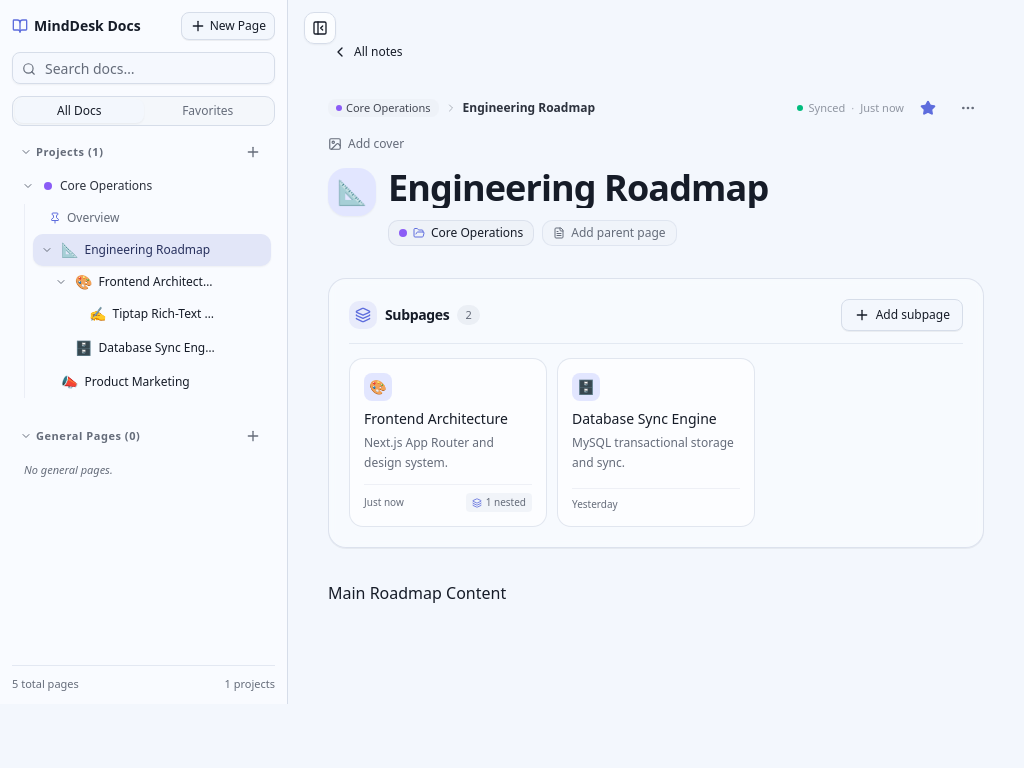
Test case: Notes Upgrade: Top-Level Hierarchy & Subpages Experience › navigates to subpage when clicking its card inside the parent note
# Click on Frontend Architecture subpage card in the subpages section
Click the heading "Frontend Architecture" at (448, 419), box [364, 409, 532, 429]
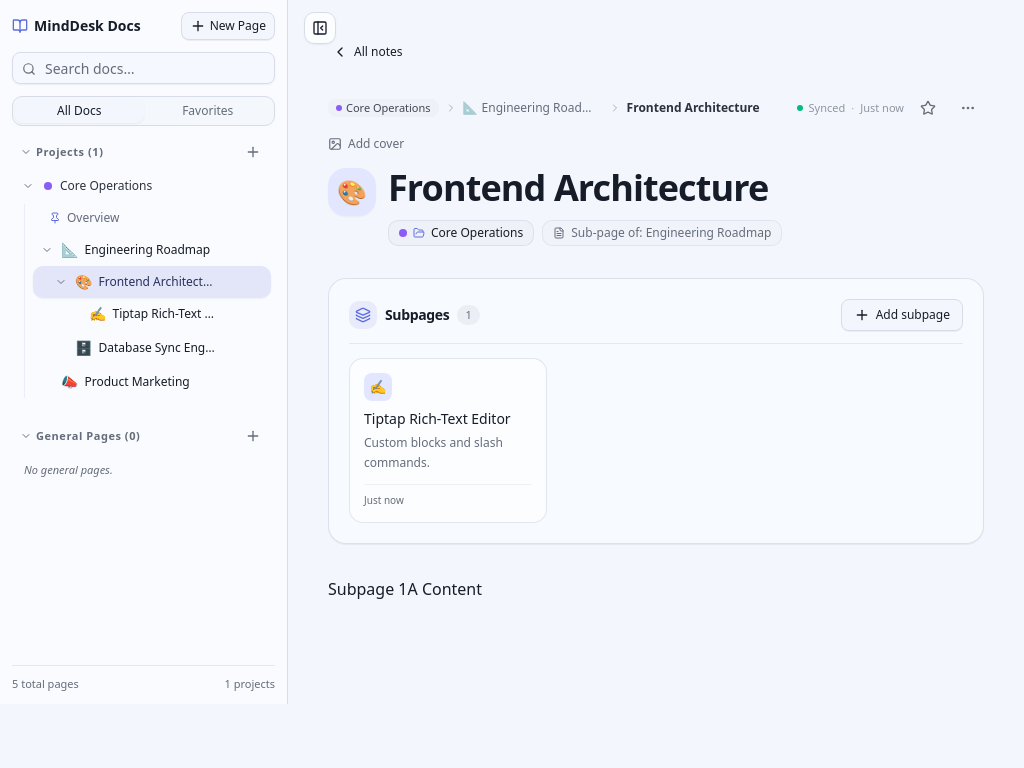
Now the field showing "Frontend Architecture" is shown, box [388, 168, 984, 208]
Now the heading "Tiptap Rich-Text Editor" is shown, box [364, 409, 532, 429]
